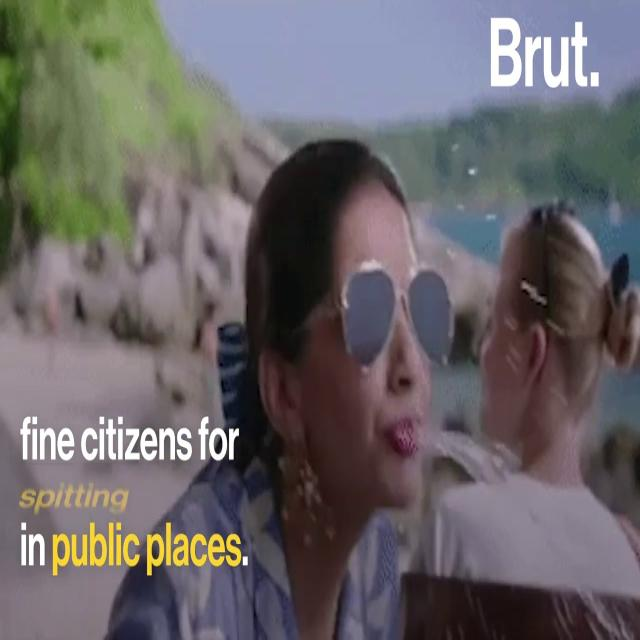spit: (303, 174, 640, 640)
